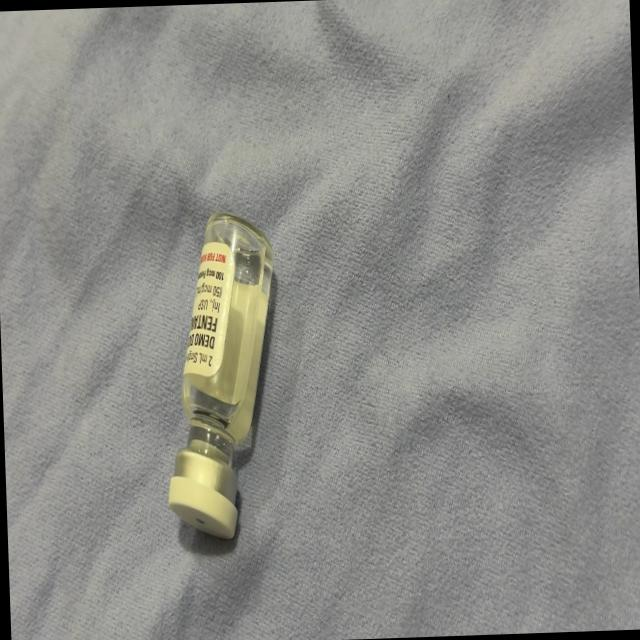fentanl_citrat: (160, 215, 282, 537)
